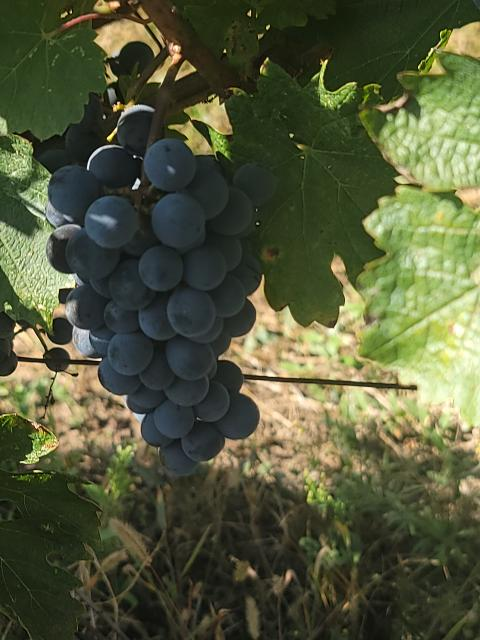grapes: (46, 105, 276, 476)
